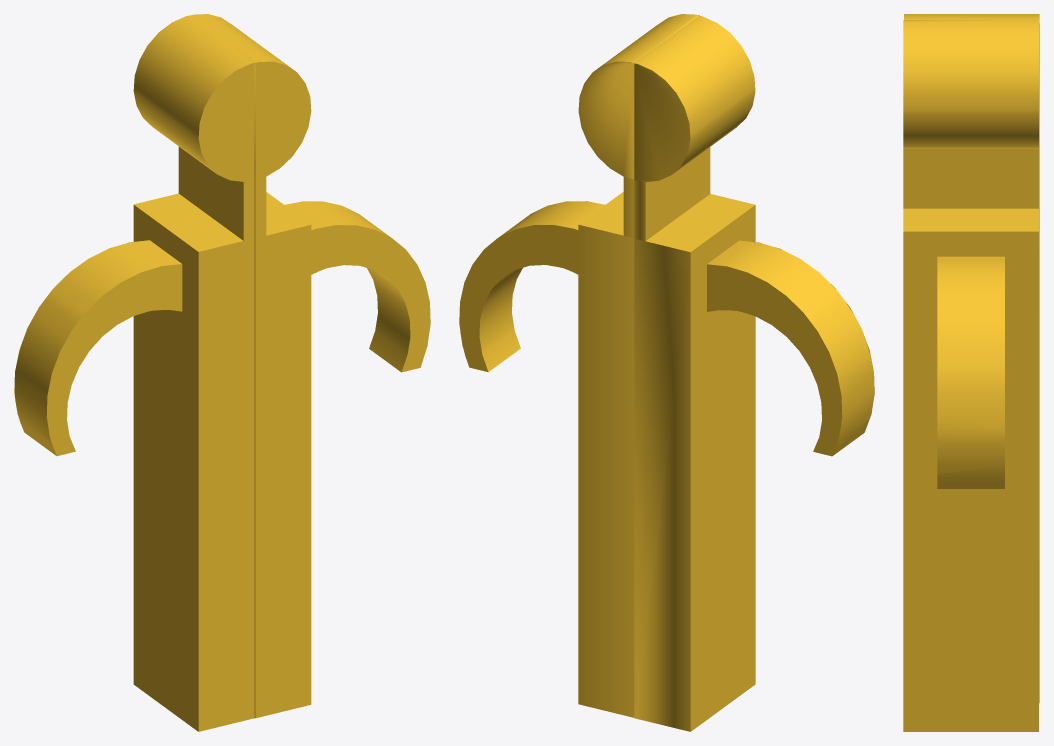
3 views of the same model, side by side, from view 1: azimuth 30°, elevation 25°; view 2: azimuth 150°, elevation 25°; view 3: azimuth 270°, elevation 25° (orthographic). The views are drawn at different scales.
Parts seen in each view (by area): view 1: SketchUp (×3); view 2: SketchUp (×3); view 3: SketchUp (×2).
Part boxes in pixels (bbox=[...]): SketchUp (×3): bbox=[14, 14, 430, 731]; SketchUp (×3): bbox=[459, 14, 874, 731]; SketchUp (×2): bbox=[903, 14, 1039, 731].
Size of the model in its own units: 14.11 by 4.16 by 23.05.
